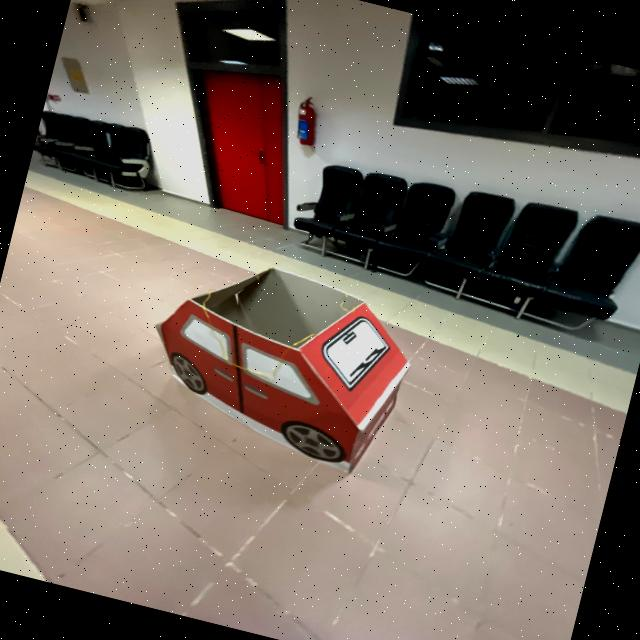red_car: (111, 231, 486, 512)
